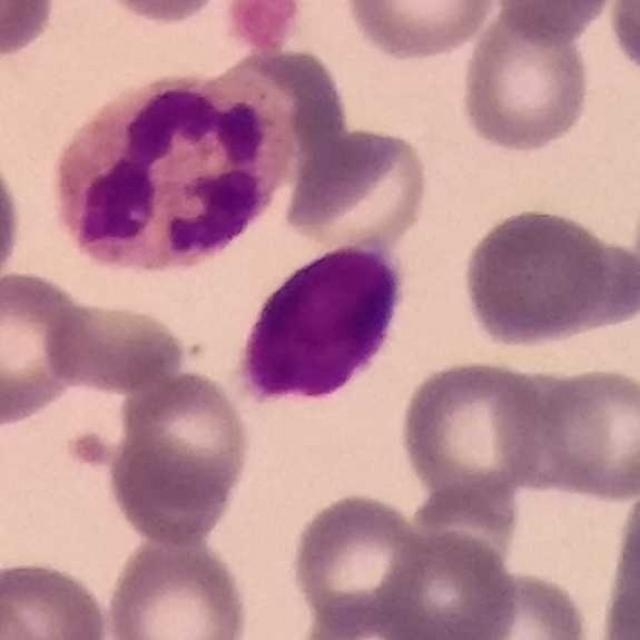Lymphocyte: (230, 234, 414, 413)
Neutrophil: (48, 57, 322, 283)
Platelets: (219, 0, 307, 56)
RBC: (103, 365, 255, 549), (459, 202, 626, 352), (395, 355, 554, 508), (286, 488, 434, 634), (456, 3, 594, 155), (279, 123, 434, 250), (101, 525, 253, 640), (374, 527, 520, 640), (530, 362, 640, 504), (0, 267, 90, 431), (44, 296, 190, 395), (237, 351, 385, 448), (435, 566, 596, 640), (340, 0, 502, 63), (0, 555, 114, 640), (292, 591, 451, 640), (597, 476, 640, 639), (486, 0, 621, 46), (82, 0, 250, 28), (0, 138, 26, 299), (0, 0, 61, 65), (594, 566, 639, 640), (604, 0, 639, 83), (625, 174, 640, 330)
